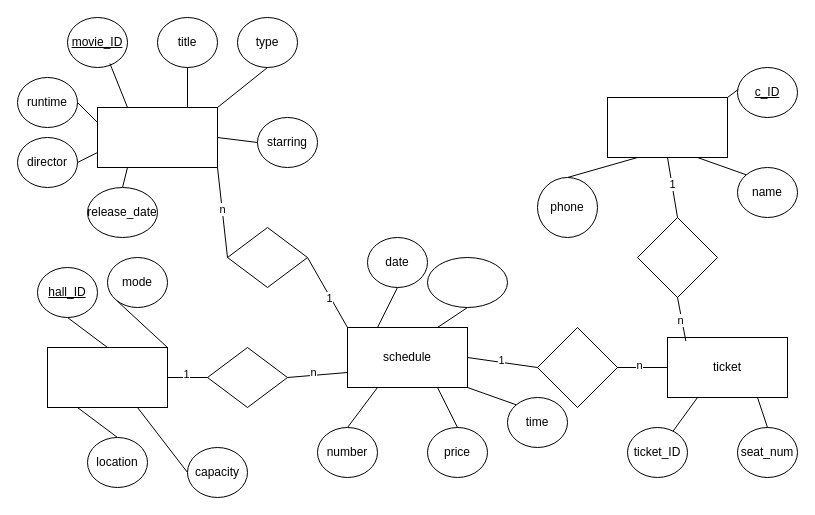
The diagram is 815 pixels wide and 515 high, and some of its shapes have lost their labels. The centre of each missing label's shape, as x and y in pixels:
belong to: (x=577, y=367)
buy: (x=677, y=257)
customer: (x=667, y=127)
hall: (x=107, y=377)
locate: (x=247, y=377)
movie: (x=157, y=137)
schedule_ID: (x=467, y=282)
show: (x=267, y=257)
